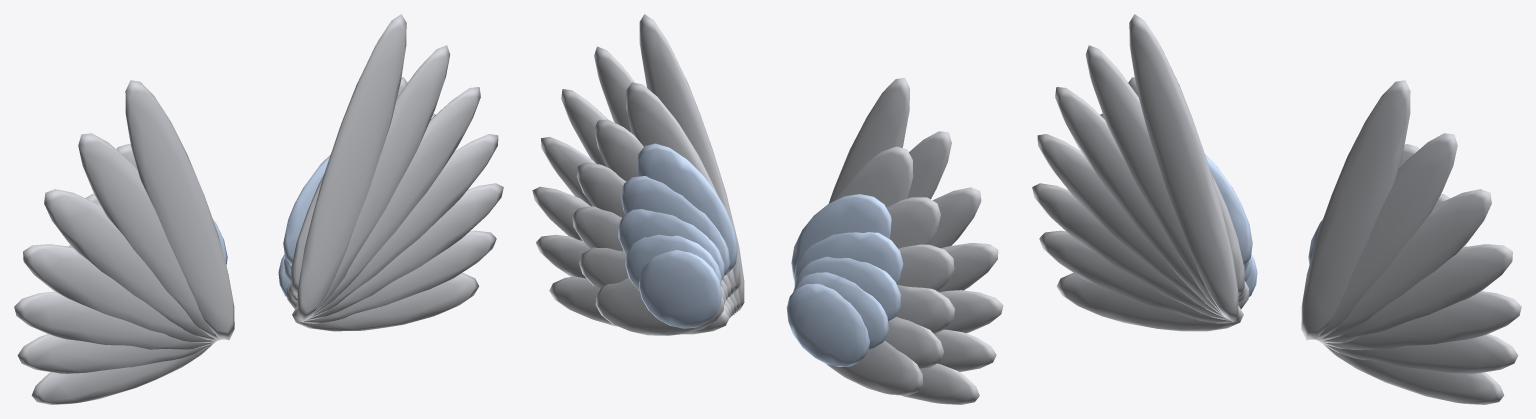
Rendered from alas.glb.
3 views of the same model, side by side, from view 1: azimuth 30°, elevation 25°; view 2: azimuth 150°, elevation 25°; view 3: azimuth 330°, elevation 25° (orthographic). The views are drawn at different scales.
Visible parts, largest first — view 1: alas; view 2: alas; view 3: alas.
Part boxes in pixels (x1=…): alas: x1=14, y1=14, x2=503, y2=404; alas: x1=532, y1=14, x2=1003, y2=404; alas: x1=1032, y1=14, x2=1521, y2=404.
Size of the model in its own units: 2.82 by 1.77 by 0.2985.
